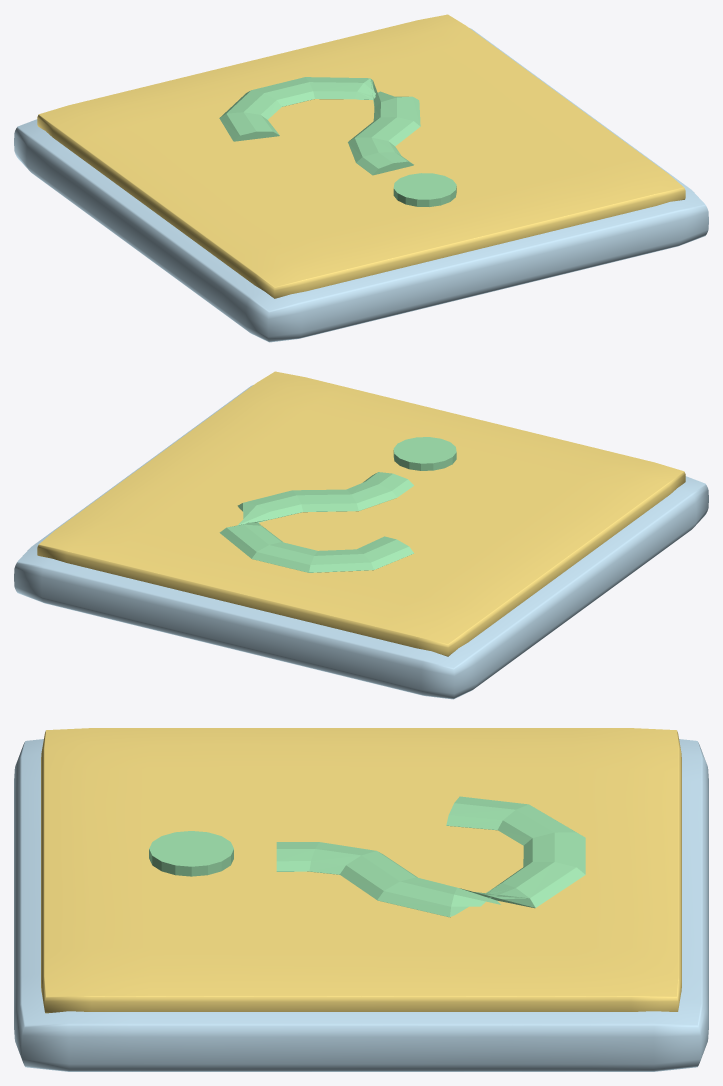
The model's file is DiceDashTileEvent.glb.
The picture shows the model from 3 angles, top to bottom: view 1: azimuth 30°, elevation 25°; view 2: azimuth 150°, elevation 25°; view 3: azimuth 270°, elevation 25°; orthographic projection. The views are drawn at different scales.
Parts seen in each view (by area): view 1: Top, Base, Icon; view 2: Top, Base, Icon; view 3: Top, Base, Icon.
Part boxes in pixels (x1,y1,x2,y2): Top: (37,14,685,298); Base: (14,28,708,342); Icon: (219,77,456,206); Top: (37,371,685,656); Base: (14,385,708,699); Icon: (219,437,456,572); Top: (41,728,681,1013); Base: (14,739,708,1071); Icon: (149,796,585,917).
Bounding box in the file's own units: 9 × 1.24 × 9.
